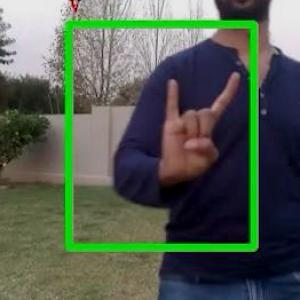takeoff-hand: (154, 58, 244, 195)
